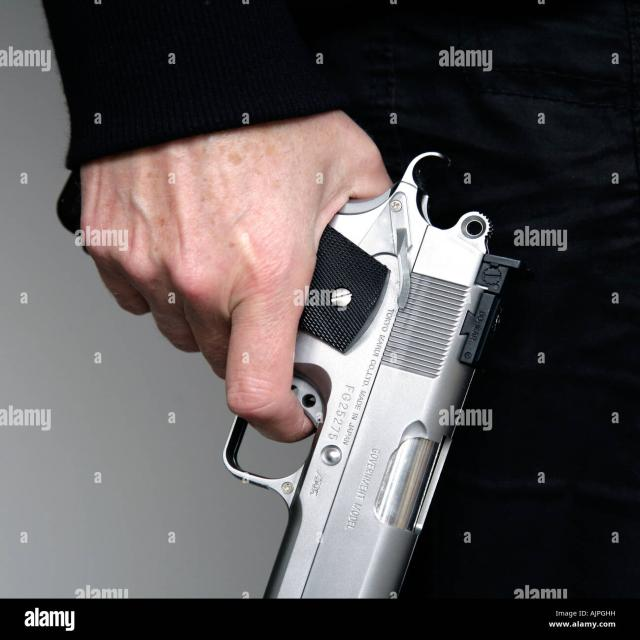HandGun: (224, 153, 522, 600)
